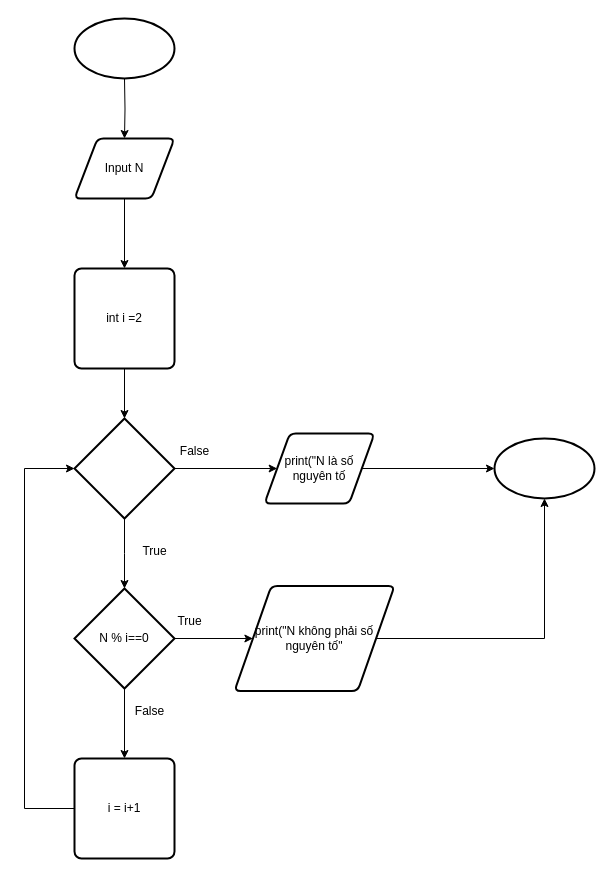
Image size: 613x876. Some labels were removed from this diagram. The centre of each missing label's shape, as x and y in pixels:
END: [544,468]
i <= sqrt(N): [124,468]
START: [124,48]
